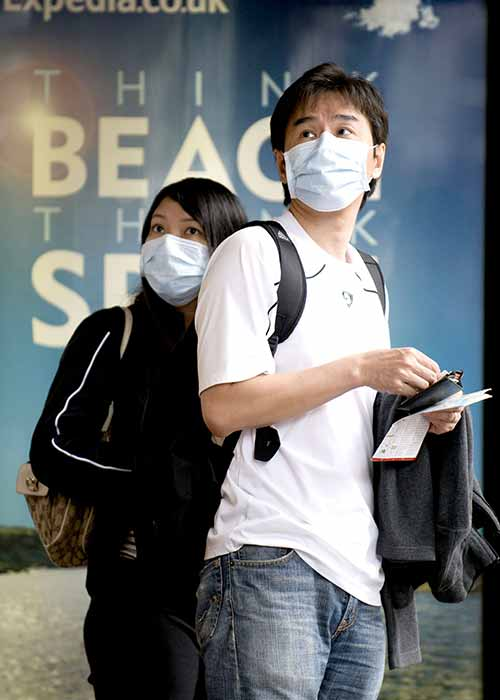mask: (283, 136, 371, 212), (142, 239, 209, 306)
